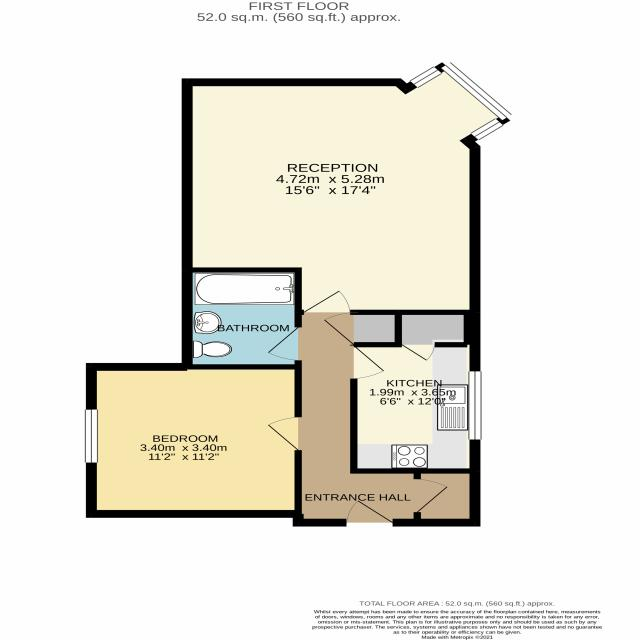DOOR: (341, 495, 396, 527), (413, 477, 453, 516), (349, 343, 389, 382), (263, 322, 303, 361), (263, 415, 304, 453), (302, 289, 352, 315), (320, 310, 357, 345), (397, 341, 439, 363)
ROOM: (182, 61, 515, 314), (86, 363, 302, 518), (350, 342, 482, 474)
WINDOW: (436, 59, 516, 123), (466, 369, 484, 441), (81, 407, 102, 465), (467, 117, 505, 142), (407, 64, 443, 89)
